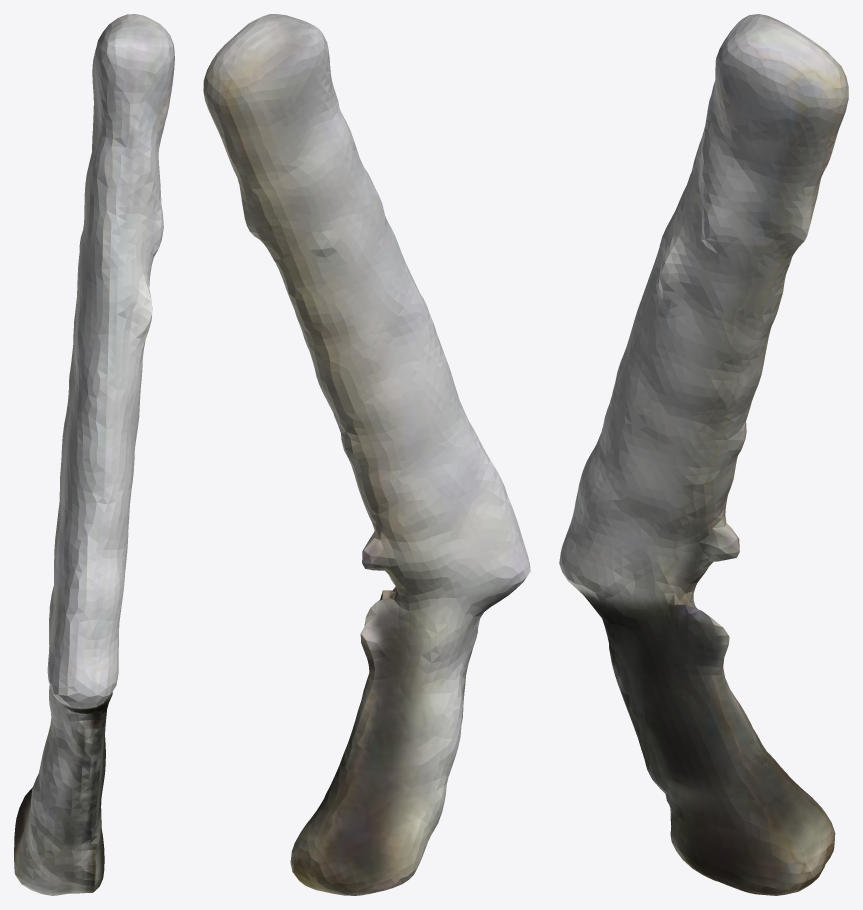
Rendered from 20_lamp.glb.
3 renders of one model, left to right at view 1: azimuth 30°, elevation 25°; view 2: azimuth 150°, elevation 25°; view 3: azimuth 270°, elevation 25°, orthographic. The views are drawn at different scales.
Parts seen in each view (by area): view 1: 20_lamp; view 2: 20_lamp; view 3: 20_lamp.
Part boxes in pixels (box(x1,y1,x2,y2)): 20_lamp: box(14, 14, 174, 895); 20_lamp: box(203, 14, 530, 895); 20_lamp: box(559, 14, 848, 895).
Bounding box in the file's own units: 0.5489 × 2.1 × 0.6126.
1 material, 1 textured.
